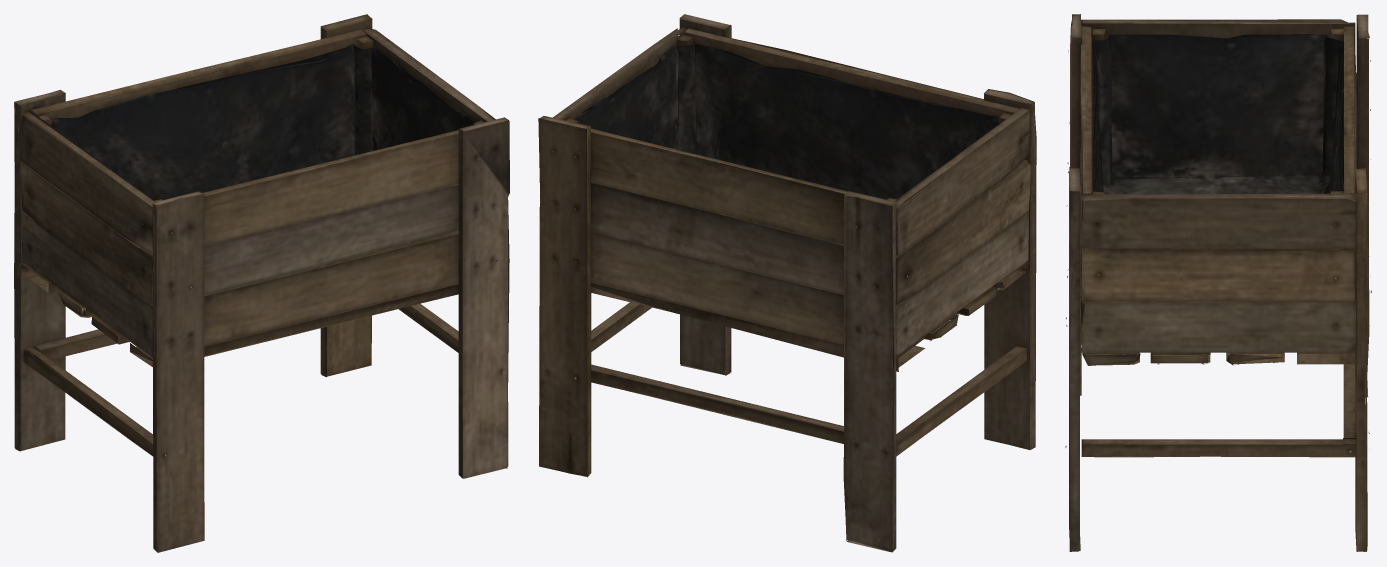
Rendered from planter_box_03_1k.gltf.lod.glb.
3 renders of one model, left to right at view 1: azimuth 30°, elevation 25°; view 2: azimuth 150°, elevation 25°; view 3: azimuth 270°, elevation 25°, orthographic. The views are drawn at different scales.
Visible parts, largest first — view 1: planter_box_03; view 2: planter_box_03; view 3: planter_box_03.
Boxes of the visible parts, box(x1,y1,x2,y2) form: planter_box_03: box(14, 14, 509, 552); planter_box_03: box(538, 14, 1036, 552); planter_box_03: box(1065, 14, 1371, 551).
Bounding box in the file's own units: 0.9158 × 0.8595 × 0.6588.
1 material, 1 textured.
